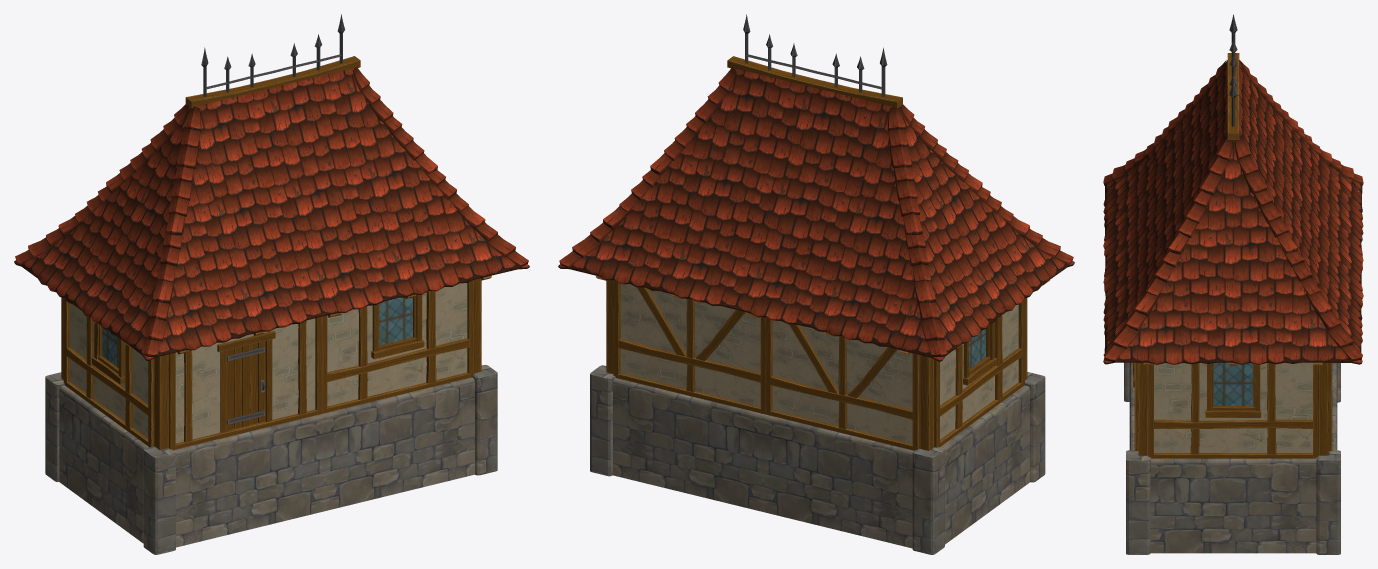
File: house_2x1_01_(4).gltf
3 renders of one model, left to right at view 1: azimuth 30°, elevation 25°; view 2: azimuth 150°, elevation 25°; view 3: azimuth 270°, elevation 25°, orthographic. The views are drawn at different scales.
Parts seen in each view (by area): view 1: House_2x1_01 (4); view 2: House_2x1_01 (4); view 3: House_2x1_01 (4).
Boxes of the visible parts, x1,y1,x2,y2 form: House_2x1_01 (4): [14, 14, 529, 554]; House_2x1_01 (4): [558, 14, 1074, 554]; House_2x1_01 (4): [1103, 14, 1363, 554].
Size of the model in its own units: 12.64 by 13.87 by 7.66.
Materials: 8 (8 with a texture image).
